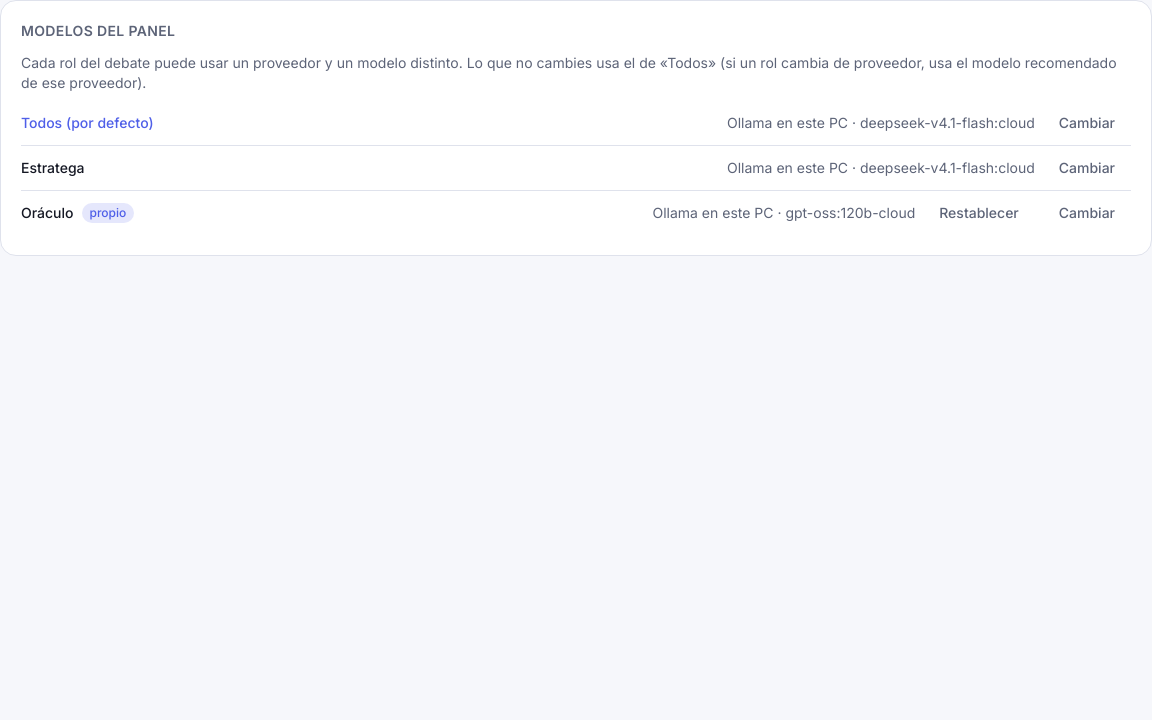
Test: Modelos del panel › elige del catálogo, prueba el modelo y marca lo propio
The image size is (1152, 720).
Expected: the text "propio" is shown, x1=82 y1=203 x2=134 y2=223
Expected: the button "Restablecer" is shown, x1=923 y1=191 x2=1035 y2=235
Step 1. Click the button "Cambiar" in the row of "Estratega" → (1087, 168), box x1=1043 y1=146 x2=1131 y2=190
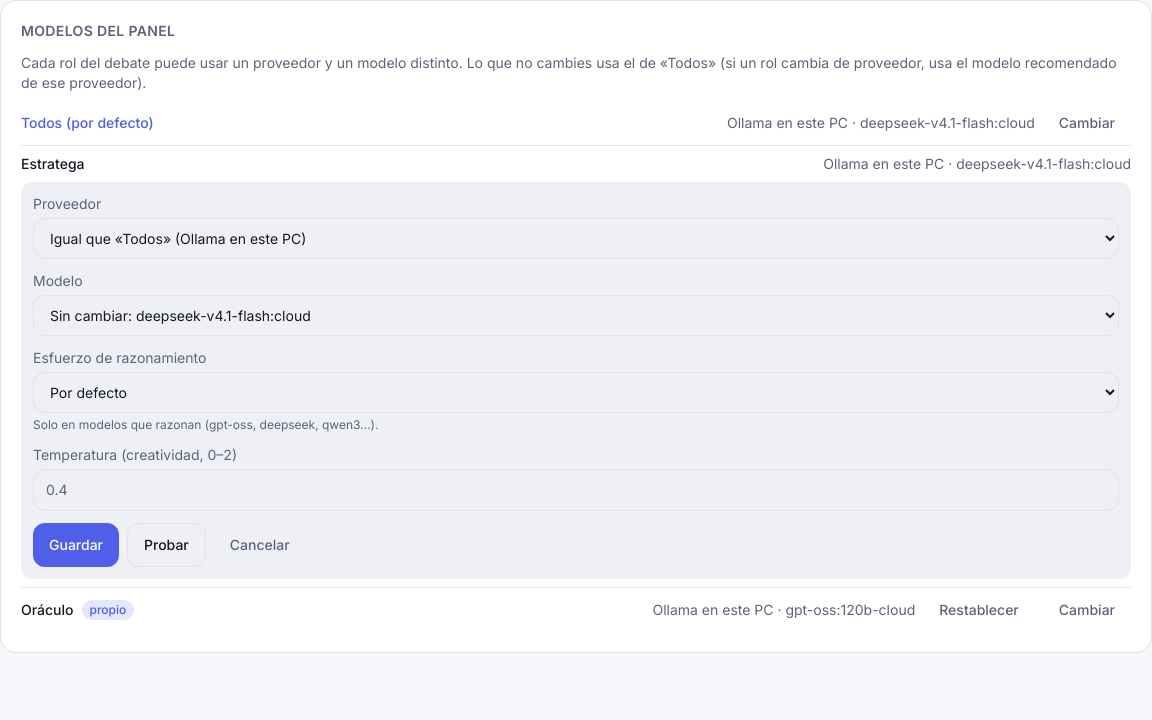
Step 2. Select "gpt-oss:120b-cloud" in the dropdown named "Modelo" → (576, 316), box x1=33 y1=295 x2=1119 y2=336
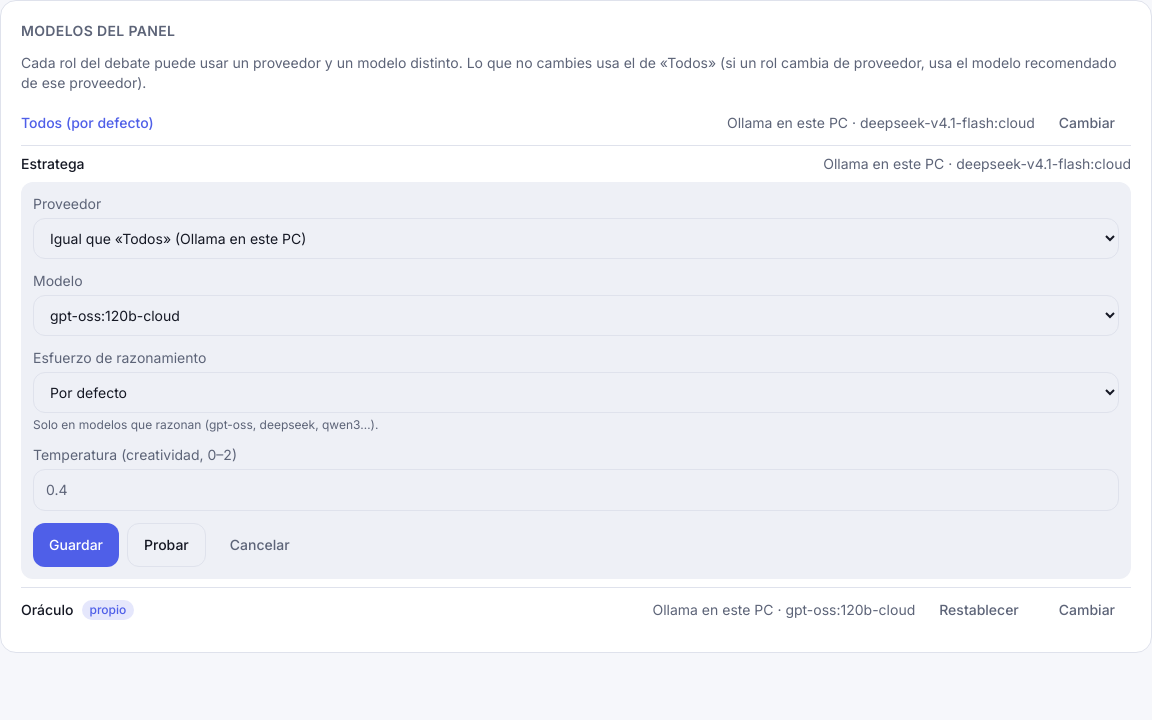
Now the text "Esfuerzo de razonamiento" is shown, box x1=33 y1=349 x2=206 y2=366
Step 3. Click the button "Probar" → (166, 545), box x1=127 y1=523 x2=206 y2=567
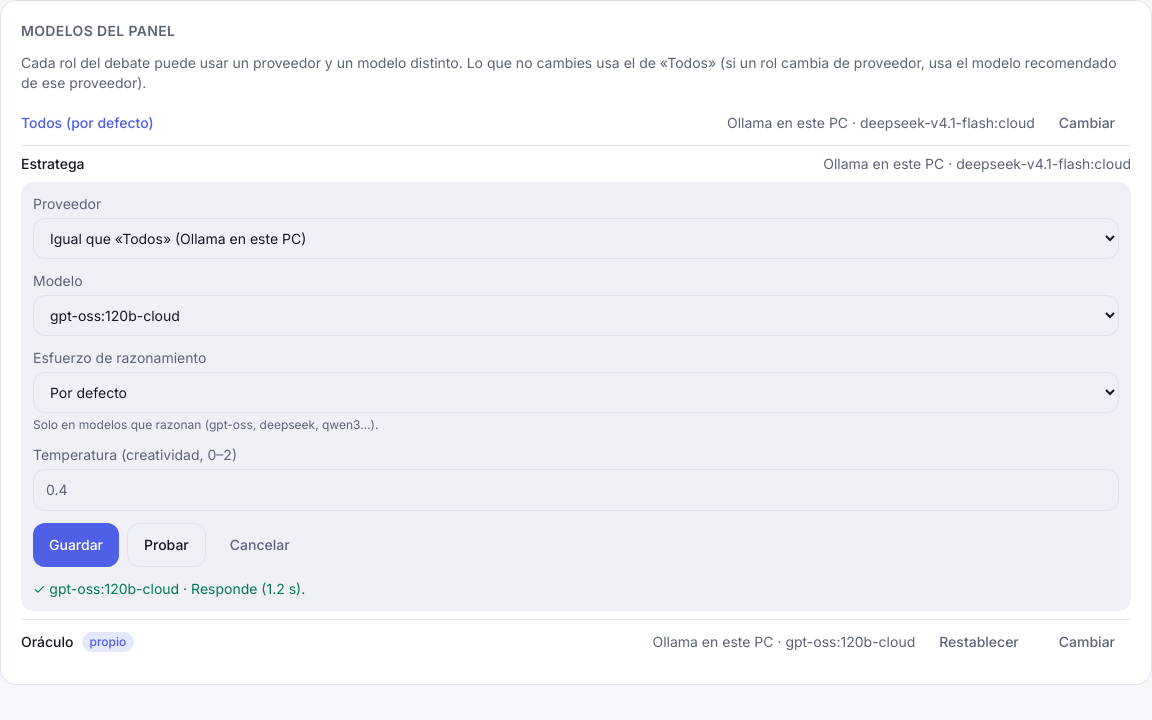
Now the text "✓ gpt-oss:120b-cloud · Responde (1.2 s)." is shown, box x1=33 y1=580 x2=305 y2=597
